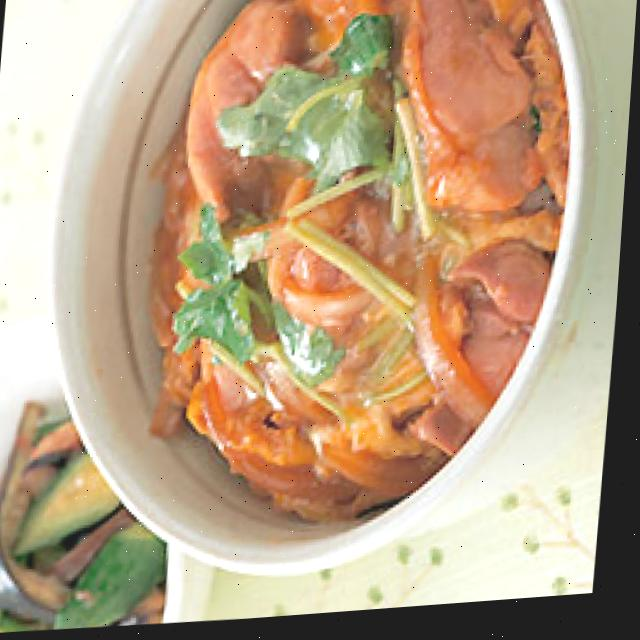米饭主食: (21, 0, 640, 604)
